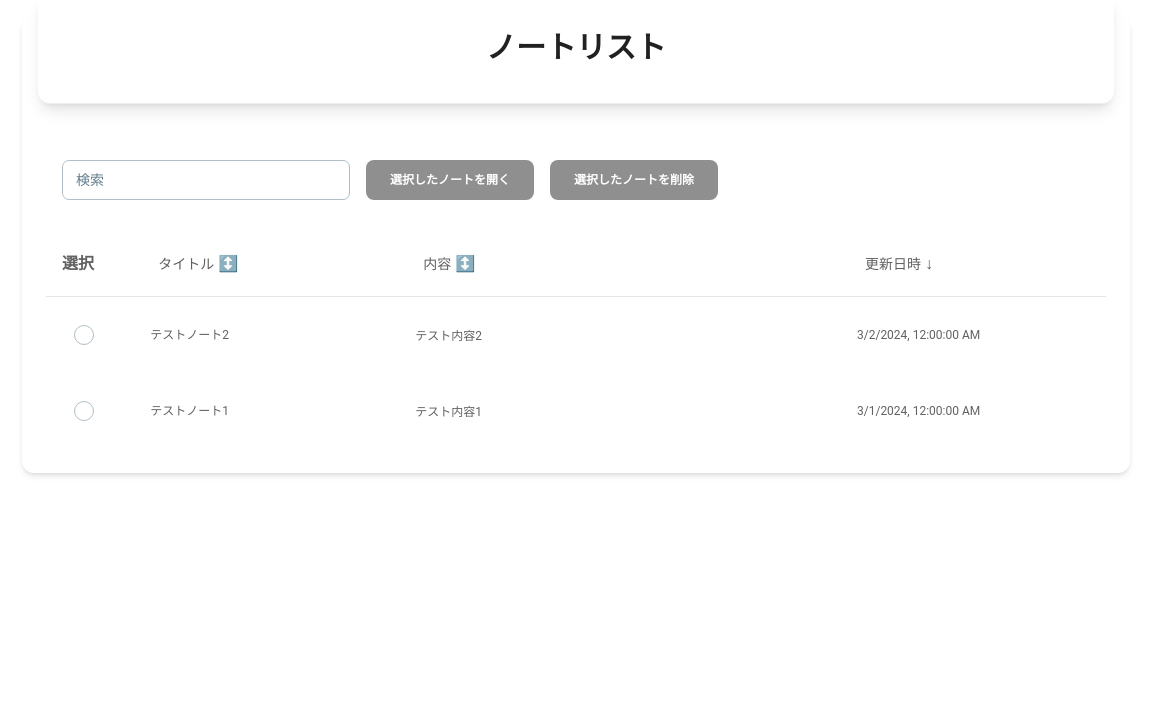
Test: SelectNotesComponent › モーダルが正しく表示されること
Expected: the text "テストノート1" is shown, [150, 404, 229, 418]
What coordinates should you click on to do the following:
click the button "テスト内容1"
I would click on:
 (449, 412)
Its box is [415, 404, 825, 420].
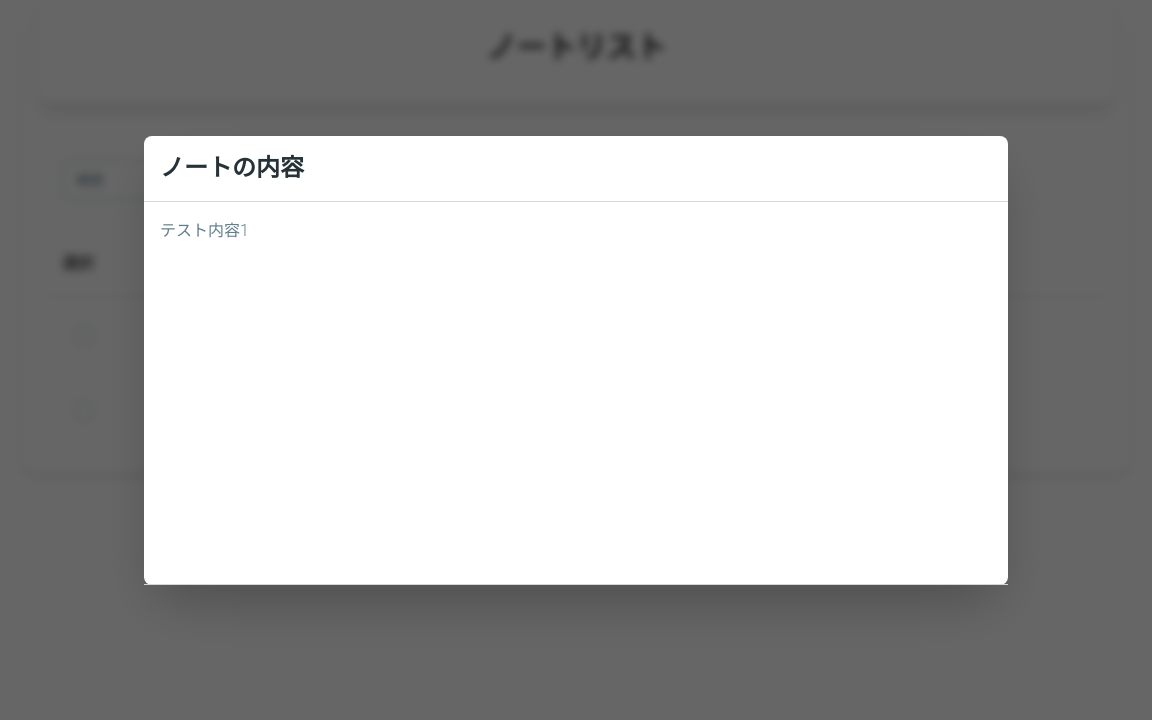
Now the dialog is shown, box [144, 136, 1008, 584]
Now the text "ノートの内容" is shown, box [160, 154, 304, 182]
Now the text "テスト内容1" is shown, box [160, 220, 249, 240]
